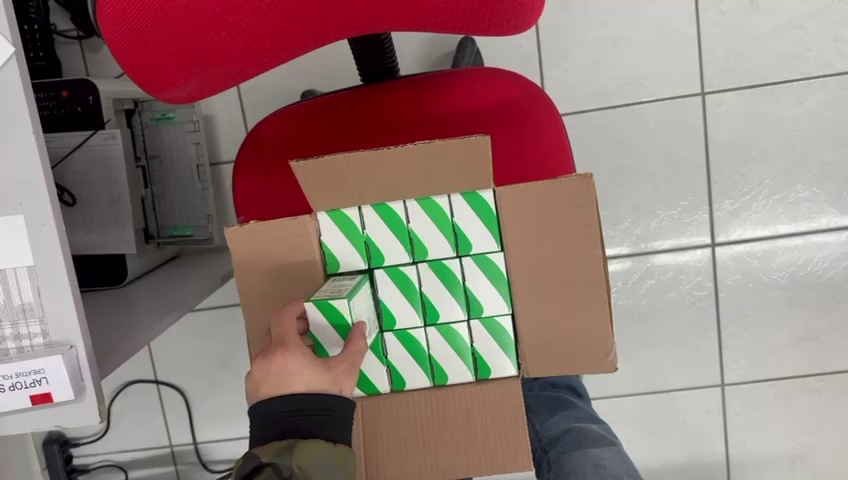divisor: (303, 272, 380, 359), (308, 202, 374, 278), (355, 191, 415, 273), (374, 326, 439, 395), (369, 262, 433, 332), (464, 313, 524, 385), (412, 255, 471, 327), (404, 190, 459, 267), (448, 184, 501, 263), (460, 247, 516, 321), (423, 320, 481, 389), (339, 331, 394, 402)
